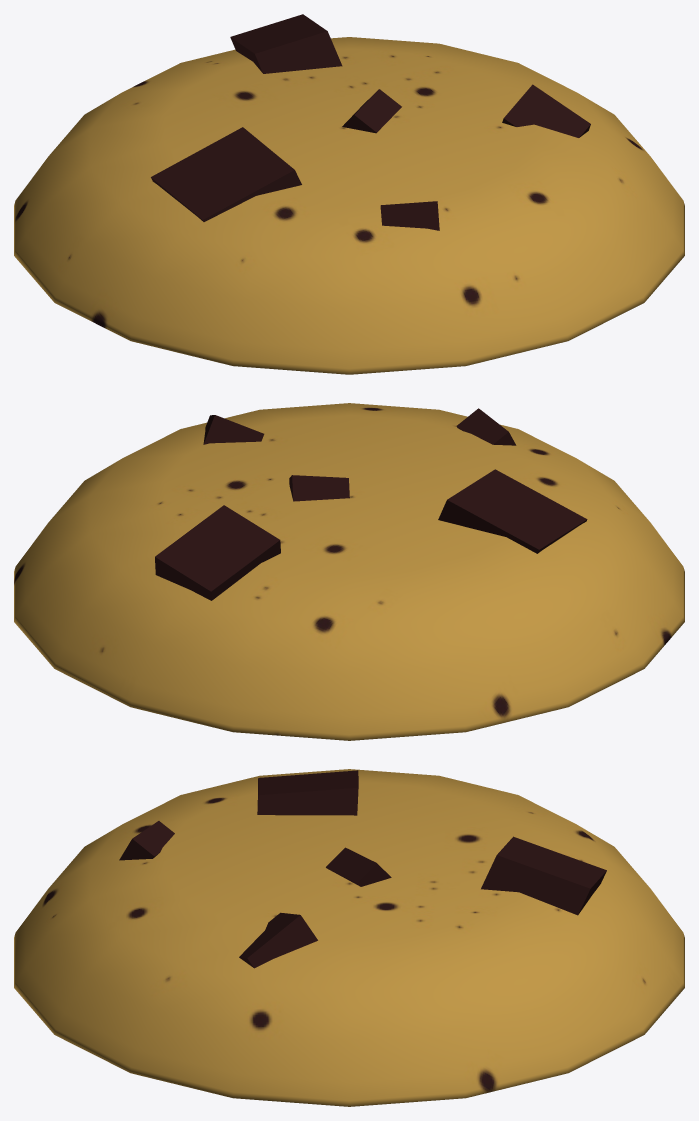
The model's file is Cookie_Nice_1.FBX.
3 views of the same model, one above another, from view 1: azimuth 30°, elevation 25°; view 2: azimuth 150°, elevation 25°; view 3: azimuth 270°, elevation 25° (orthographic).
Visible parts, largest first — view 1: Cookie; view 2: Cookie; view 3: Cookie.
Boxes of the visible parts, x1=… form: Cookie: x1=14, y1=14, x2=684, y2=374; Cookie: x1=14, y1=403, x2=684, y2=740; Cookie: x1=14, y1=769, x2=684, y2=1106.
Size of the model in its own units: 4.96 by 1.08 by 4.88.
